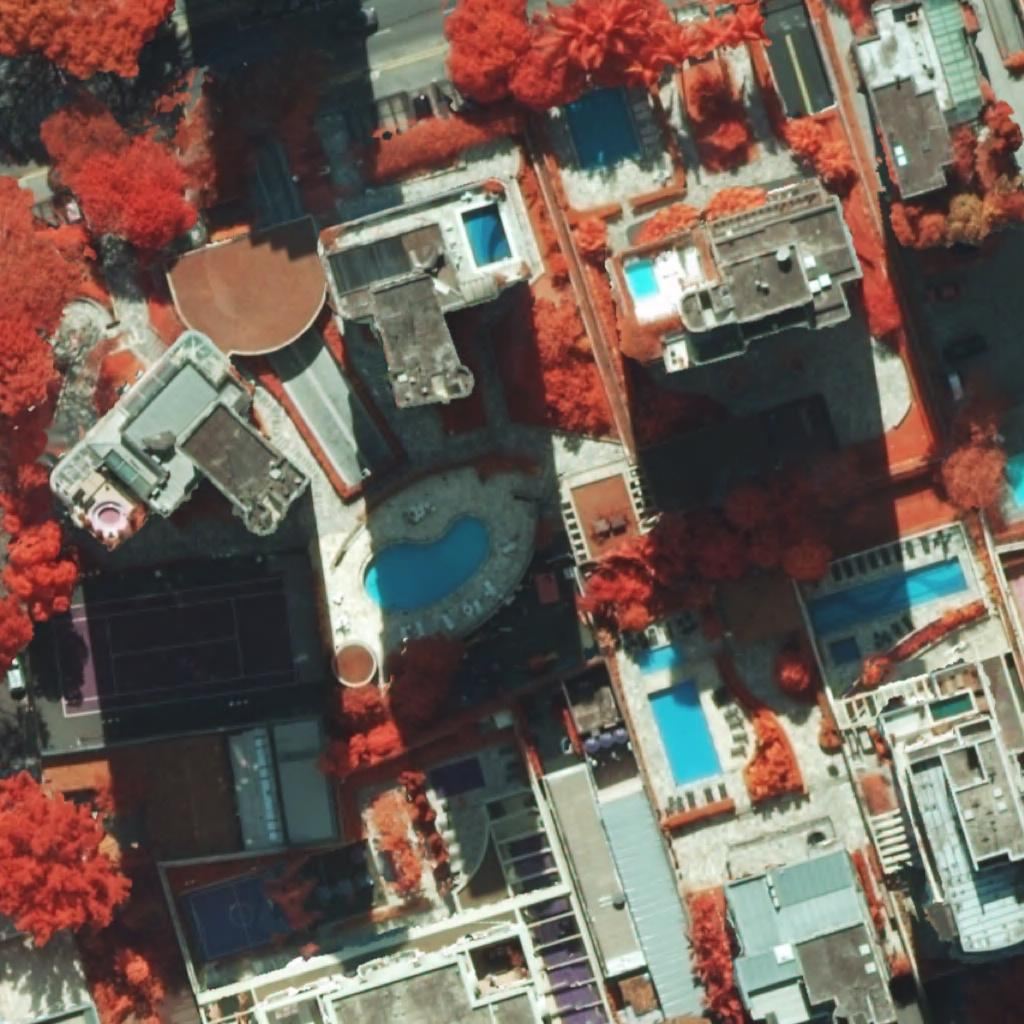pool: (807, 556, 969, 636), (362, 516, 489, 611), (647, 679, 723, 787), (564, 86, 642, 172), (461, 203, 513, 268), (429, 757, 486, 800), (928, 692, 973, 722), (637, 644, 682, 674), (624, 260, 658, 297), (1005, 453, 1024, 507), (829, 635, 861, 666)
